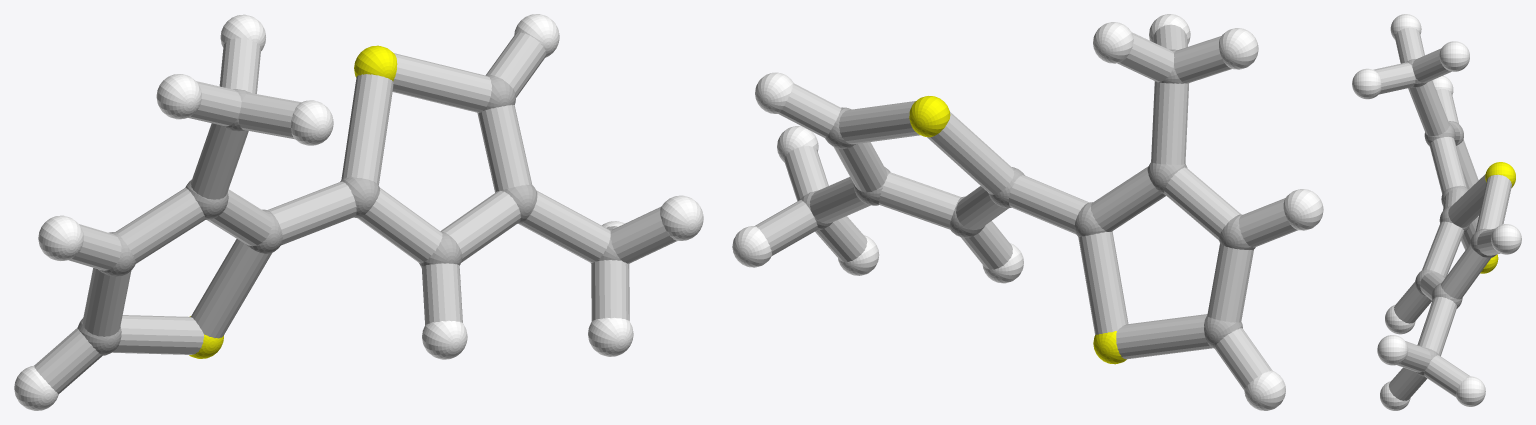
Rendered from Methylthiophene_Phi_10_Theta_310_Methylthiophene.glb.
The picture shows the model from 3 angles, left to right: view 1: azimuth 30°, elevation 25°; view 2: azimuth 150°, elevation 25°; view 3: azimuth 270°, elevation 25°; orthographic projection. The views are drawn at different scales.
Parts seen in each view (by area): view 1: grp7965, grp3621, grp1, grp7241; view 2: grp7965, grp3621, grp1, grp7241; view 3: grp7965, grp3621, grp1, grp7241.
Boxes of the visible parts, bbox=[...] form: grp7965: bbox=[34, 32, 676, 393]; grp3621: bbox=[14, 14, 703, 410]; grp1: bbox=[77, 75, 621, 355]; grp7241: bbox=[189, 45, 397, 358]; grp7965: bbox=[754, 24, 1297, 389]; grp3621: bbox=[732, 14, 1323, 410]; grp1: bbox=[800, 49, 1255, 348]; grp7241: bbox=[909, 96, 1126, 364]; grp7965: bbox=[1373, 27, 1511, 400]; grp3621: bbox=[1352, 14, 1521, 410]; grp1: bbox=[1406, 59, 1496, 376]; grp7241: bbox=[1480, 162, 1515, 273].
Size of the model in its own units: 9.49 by 5.57 by 3.3.
